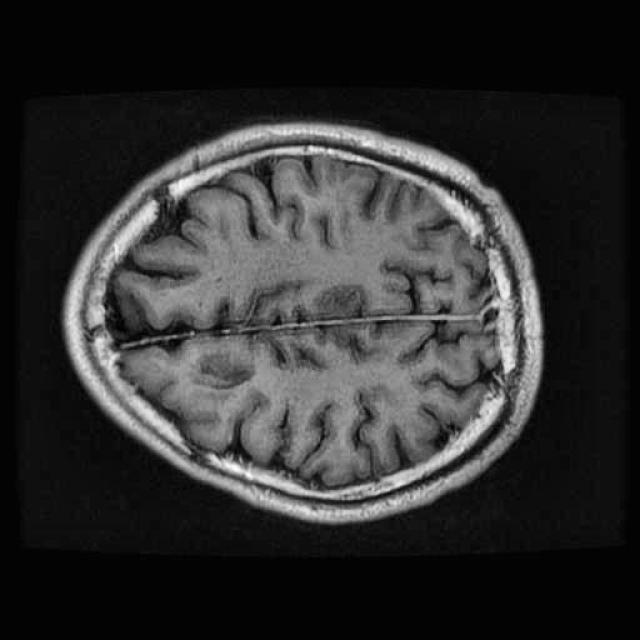Tumor: (172, 344, 260, 398)
